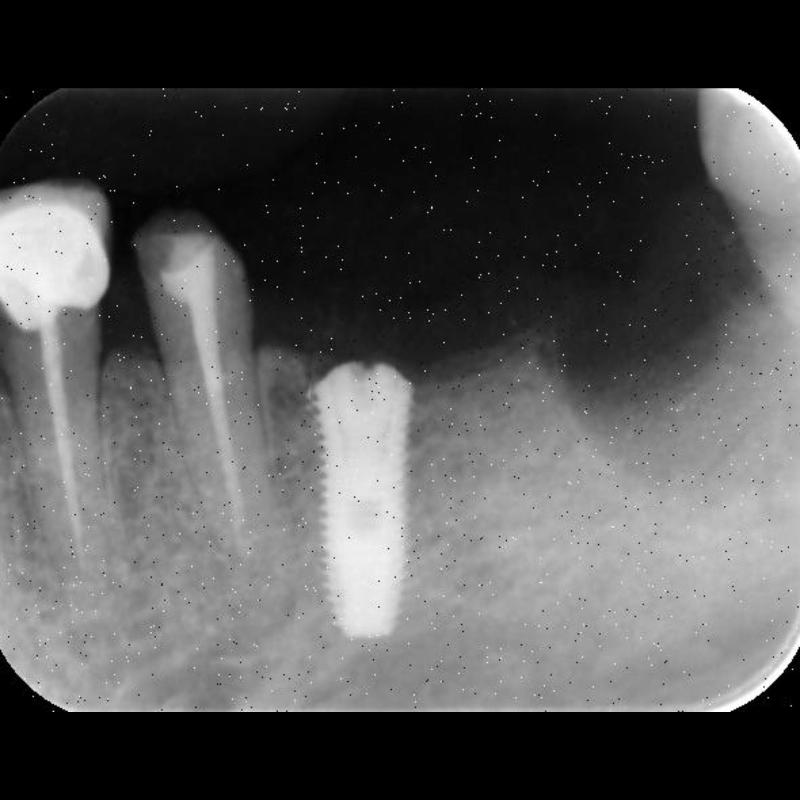Dentium: (300, 354, 426, 646)
